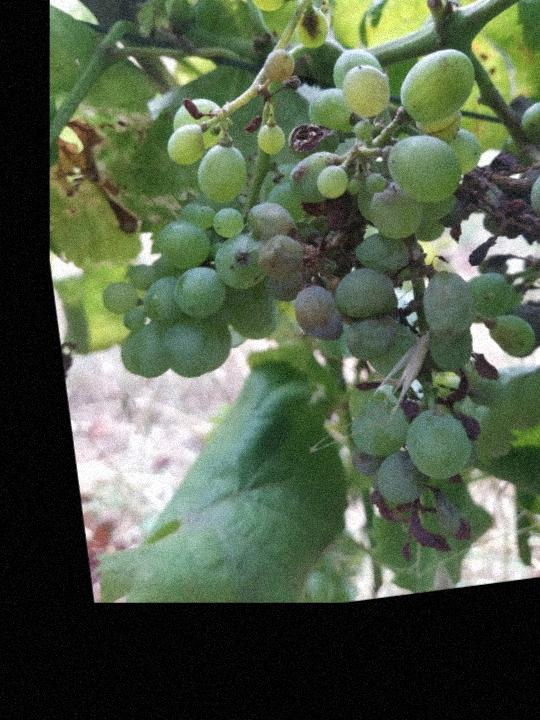grape: (223, 18, 540, 580)
